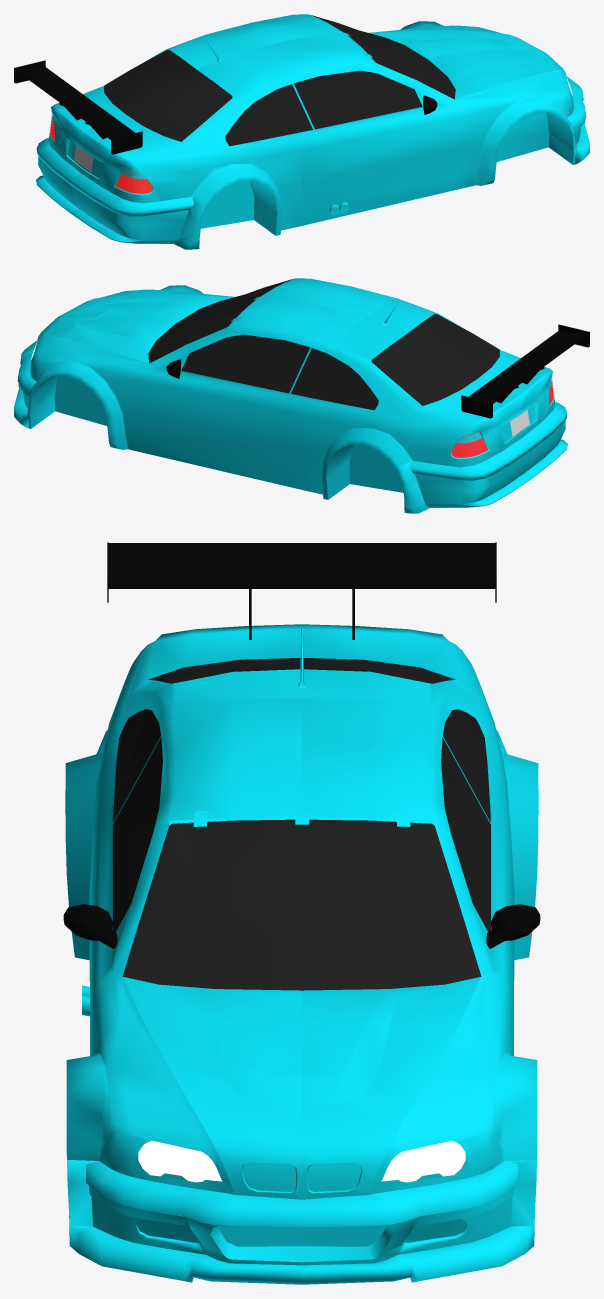
File: carmodel.glb
The picture shows the model from 3 angles, top to bottom: view 1: azimuth 30°, elevation 25°; view 2: azimuth 150°, elevation 25°; view 3: azimuth 270°, elevation 25°; orthographic projection. The views are drawn at different scales.
Visible parts, largest first — view 1: Mesh_70; view 2: Mesh_70; view 3: Mesh_70.
Part boxes in pixels (x1,y1,x2,y2): Mesh_70: (14,14,589,249); Mesh_70: (14,278,589,513); Mesh_70: (63,542,540,1284).
Size of the model in its own units: 7.88 by 2.4 by 3.24.
